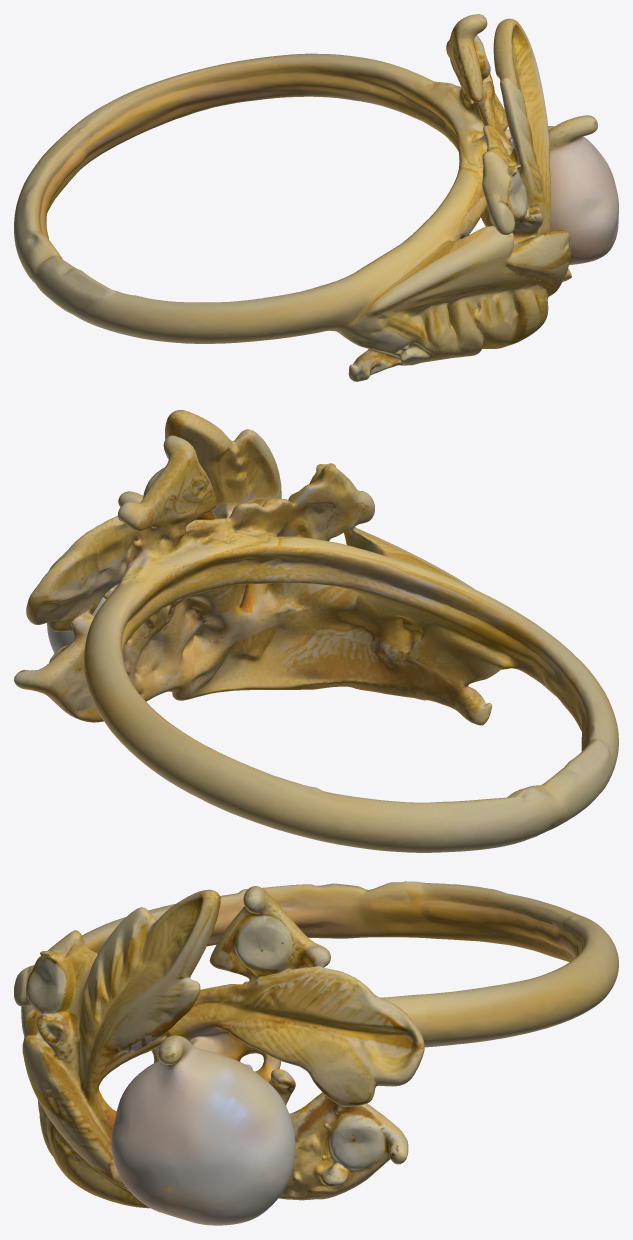
The model's file is ring.glb.
3 renders of one model, top to bottom at view 1: azimuth 30°, elevation 25°; view 2: azimuth 150°, elevation 25°; view 3: azimuth 270°, elevation 25°, orthographic. The views are drawn at different scales.
Visible parts, largest first — view 1: tripo_node_030b8836-dddc-4f91-9385-aaae13600991; view 2: tripo_node_030b8836-dddc-4f91-9385-aaae13600991; view 3: tripo_node_030b8836-dddc-4f91-9385-aaae13600991.
Part boxes in pixels (x1,y1,x2,y2): tripo_node_030b8836-dddc-4f91-9385-aaae13600991: (14,14,618,381); tripo_node_030b8836-dddc-4f91-9385-aaae13600991: (14,410,618,852); tripo_node_030b8836-dddc-4f91-9385-aaae13600991: (14,881,618,1225).
Size of the model in its own units: 1 by 0.5109 by 0.8698.
1 material, 1 textured.
